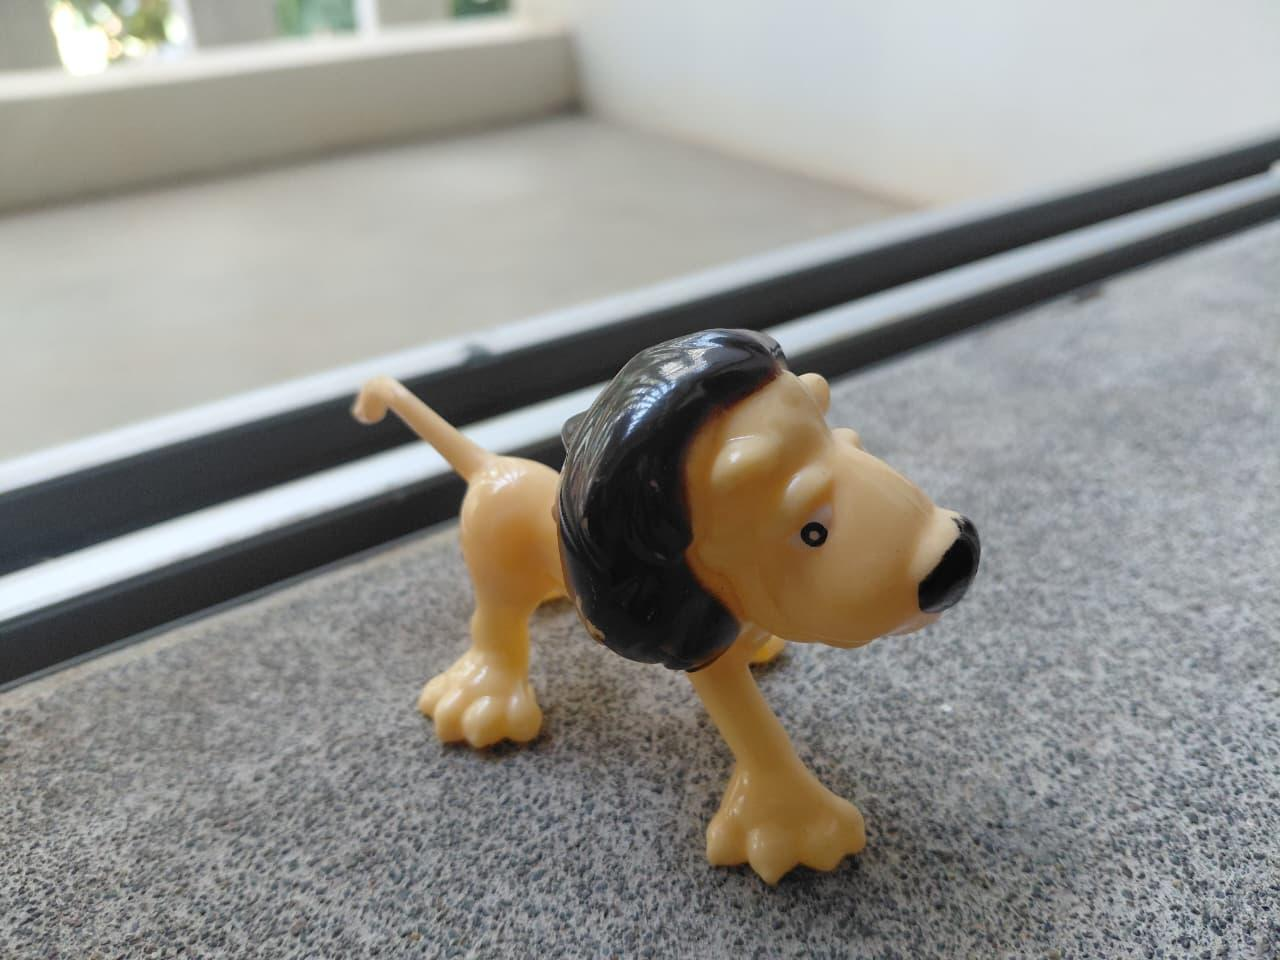lion: (304, 309, 1064, 903)
